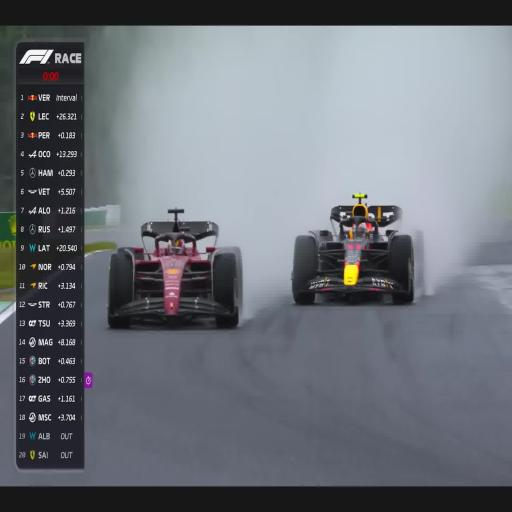f1_car: (107, 209, 242, 327), (291, 194, 423, 304)
